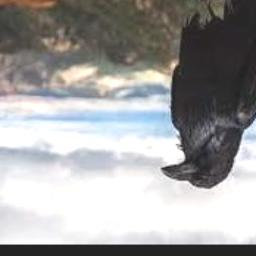Crow: (160, 0, 256, 190)
